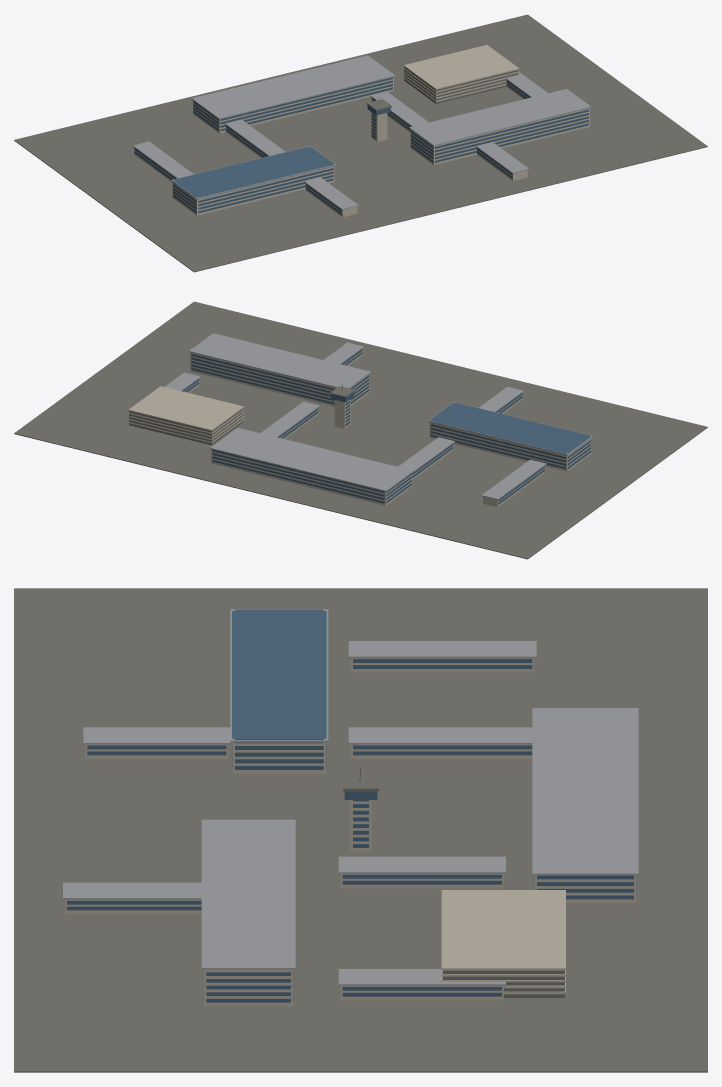
File: heathrow_old.glb
The picture shows the model from 3 angles, top to bottom: view 1: azimuth 30°, elevation 25°; view 2: azimuth 150°, elevation 25°; view 3: azimuth 270°, elevation 25°; orthographic projection. The views are drawn at different scales.
Parts seen in each view (by area): view 1: heathrow_old; view 2: heathrow_old; view 3: heathrow_old.
Part boxes in pixels (x1,y1,x2,y2): heathrow_old: [14, 14, 707, 272]; heathrow_old: [14, 301, 707, 559]; heathrow_old: [14, 588, 707, 1072].
Size of the model in its own units: 560 by 44.4 by 340.
